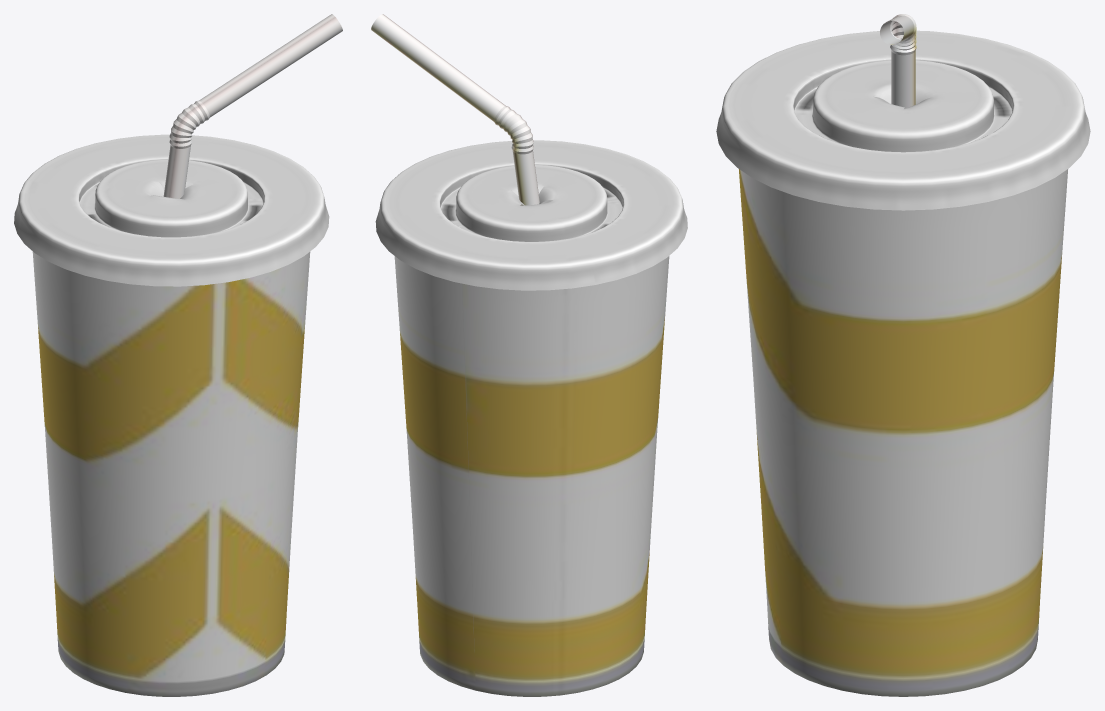
Rendered from straw.glb.
The picture shows the model from 3 angles, left to right: view 1: azimuth 30°, elevation 25°; view 2: azimuth 150°, elevation 25°; view 3: azimuth 270°, elevation 25°; orthographic projection. The views are drawn at different scales.
Parts seen in each view (by area): view 1: Cup_Low, Lid_Low, Straw_Low; view 2: Cup_Low, Lid_Low, Straw_Low; view 3: Cup_Low, Lid_Low, Straw_Low.
Part boxes in pixels (x1=…): Cup_Low: x1=32, y1=251, x2=310, y2=696; Lid_Low: x1=14, y1=134, x2=329, y2=286; Straw_Low: x1=163, y1=14, x2=342, y2=198; Cup_Low: x1=394, y1=200, x2=669, y2=696; Lid_Low: x1=375, y1=140, x2=687, y2=290; Straw_Low: x1=371, y1=14, x2=539, y2=205; Cup_Low: x1=739, y1=96, x2=1067, y2=696; Lid_Low: x1=716, y1=30, x2=1090, y2=210; Straw_Low: x1=880, y1=14, x2=916, y2=108.
Bounding box in the file's own units: 2.64 × 5.02 × 2.4.
1 material, 1 textured.
